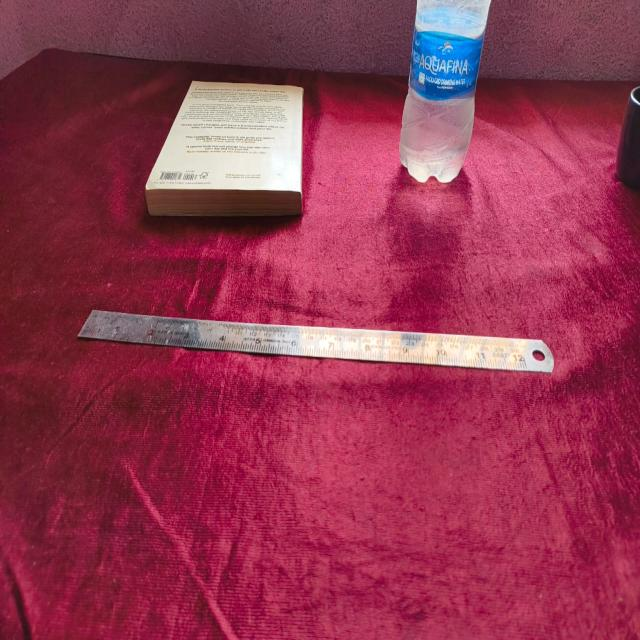Book: (144, 79, 307, 216)
Bottle: (399, 0, 490, 184)
Cup: (615, 79, 640, 196)
scale: (79, 308, 556, 376)
